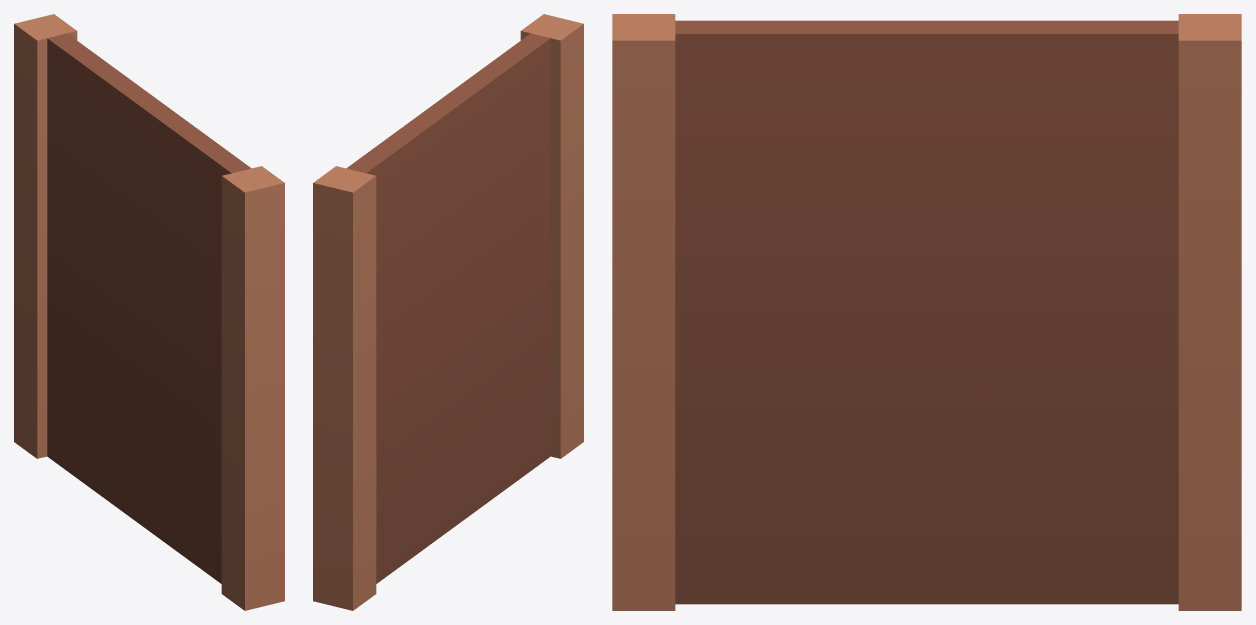
The model's file is wall-wood.glb.
3 views of the same model, side by side, from view 1: azimuth 30°, elevation 25°; view 2: azimuth 150°, elevation 25°; view 3: azimuth 270°, elevation 25° (orthographic). The views are drawn at different scales.
Parts seen in each view (by area): view 1: wall-wood; view 2: wall-wood; view 3: wall-wood.
Part boxes in pixels (x1,y1,x2,y2): wall-wood: (14,14,284,610); wall-wood: (313,14,583,610); wall-wood: (612,14,1241,610).
Bounding box in the file's own units: 0.1 × 1 × 1.
1 material, 1 textured.
